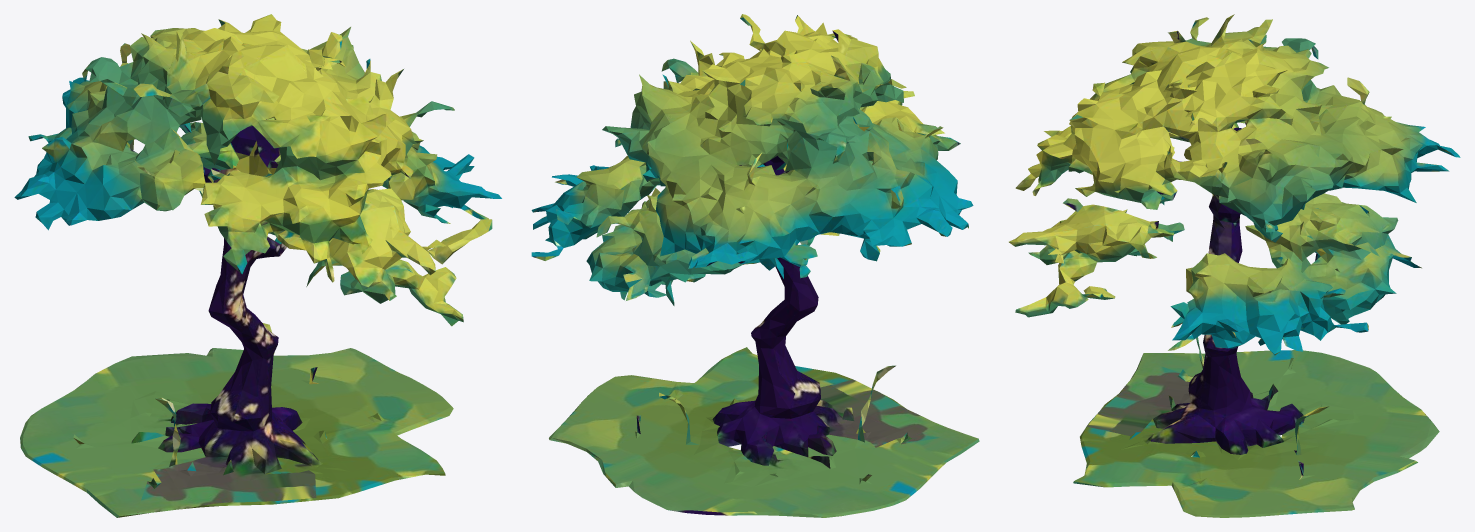
The model's file is tree_b.glb.
The picture shows the model from 3 angles, left to right: view 1: azimuth 30°, elevation 25°; view 2: azimuth 150°, elevation 25°; view 3: azimuth 270°, elevation 25°; orthographic projection. The views are drawn at different scales.
Visible parts, largest first — view 1: tmp9uzbboh1.ply; view 2: tmp9uzbboh1.ply; view 3: tmp9uzbboh1.ply.
Boxes of the visible parts, x1,y1,x2,y2 form: tmp9uzbboh1.ply: [14, 14, 501, 517]; tmp9uzbboh1.ply: [531, 14, 979, 517]; tmp9uzbboh1.ply: [1009, 14, 1460, 517].
Bounding box in the file's own units: 1.91 × 1.9 × 1.83.
1 material, 1 textured.
